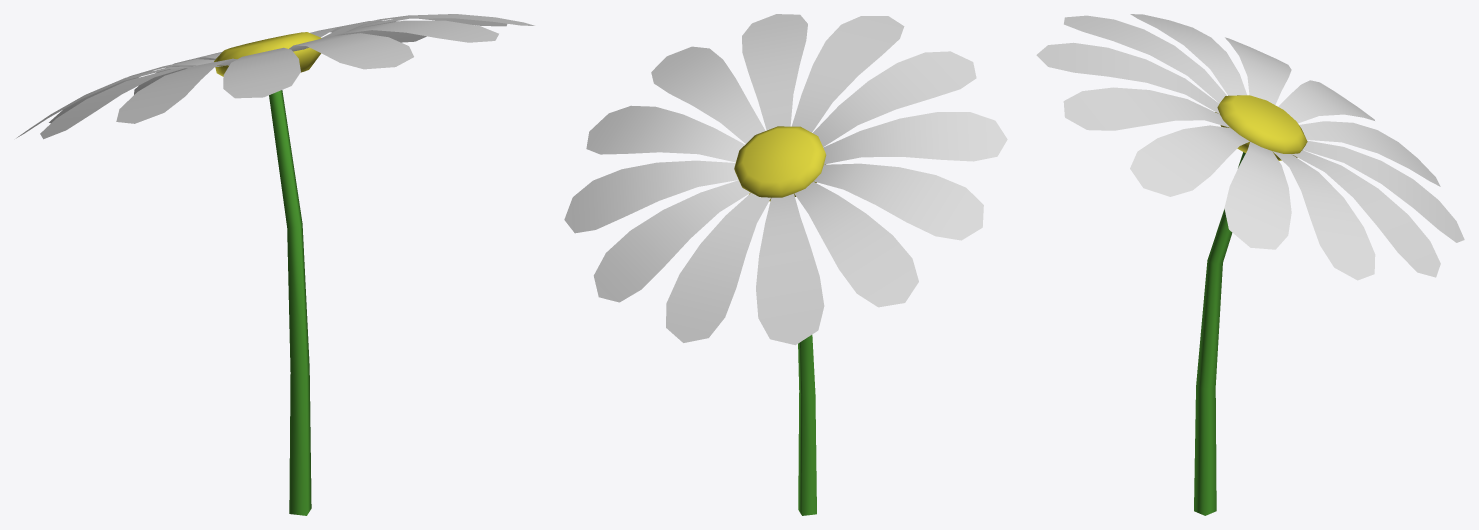
Rendered from WhiteFlower.fbx.
3 renders of one model, left to right at view 1: azimuth 30°, elevation 25°; view 2: azimuth 150°, elevation 25°; view 3: azimuth 270°, elevation 25°, orthographic. The views are drawn at different scales.
Parts seen in each view (by area): view 1: WhiteFlower; view 2: WhiteFlower; view 3: WhiteFlower.
Part boxes in pixels (x1,y1,x2,y2): WhiteFlower: [16, 14, 534, 515]; WhiteFlower: [564, 14, 1007, 515]; WhiteFlower: [1036, 14, 1464, 515].
Bounding box in the file's own units: 24.47 × 25.94 × 22.1.
